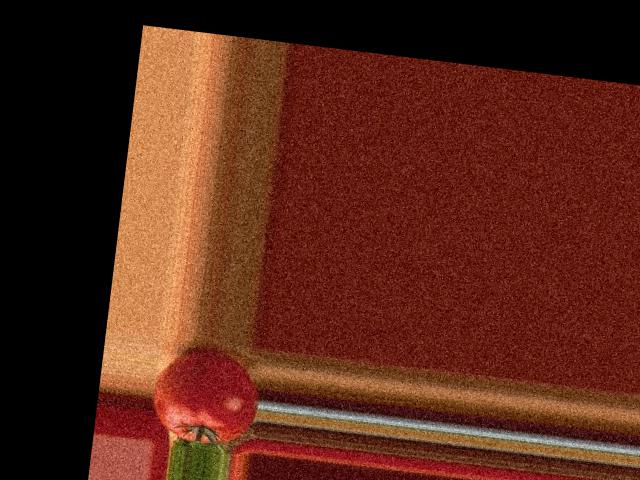tomato: (148, 346, 262, 448)
